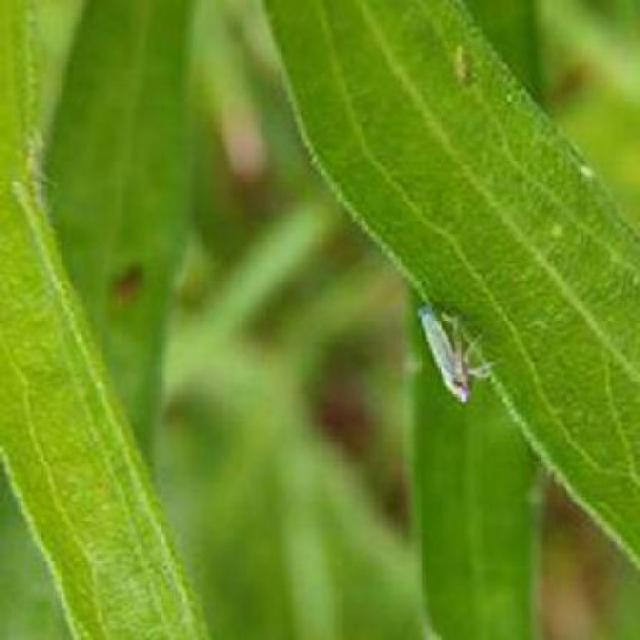green-leafhopper: (420, 309, 482, 405)
